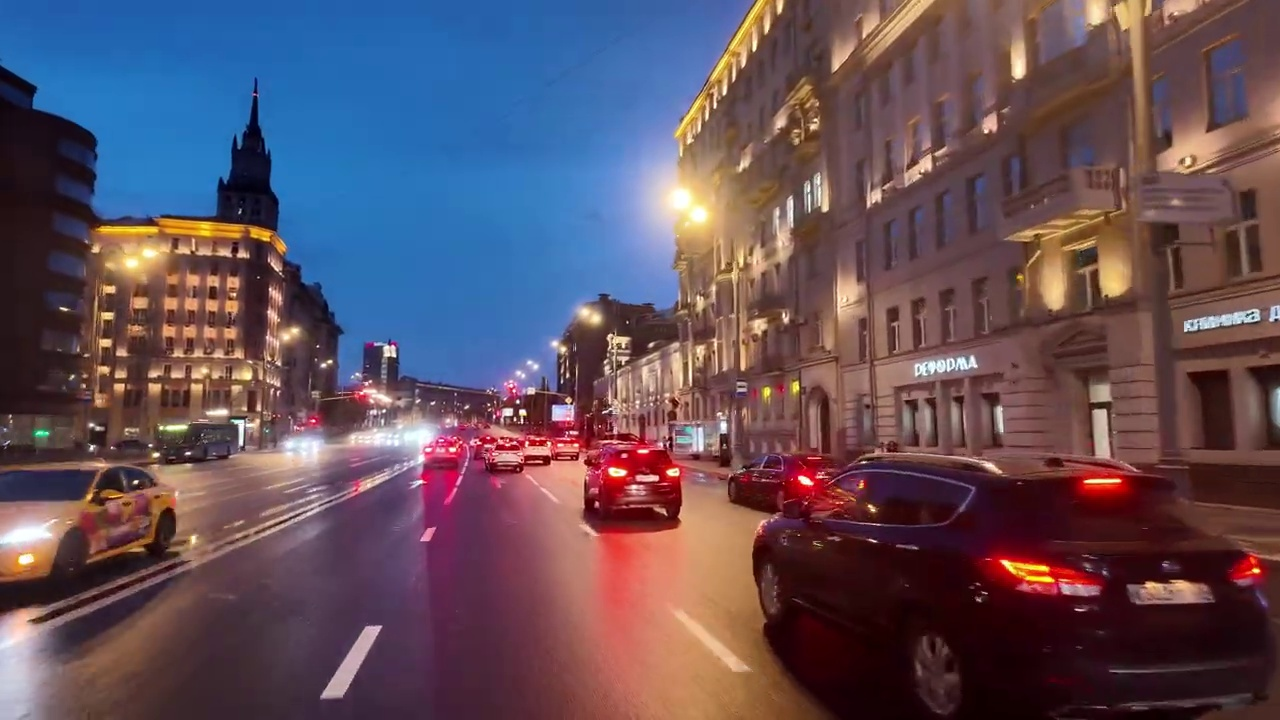acesa: (665, 181, 716, 233), (578, 304, 606, 330), (278, 325, 304, 347)
